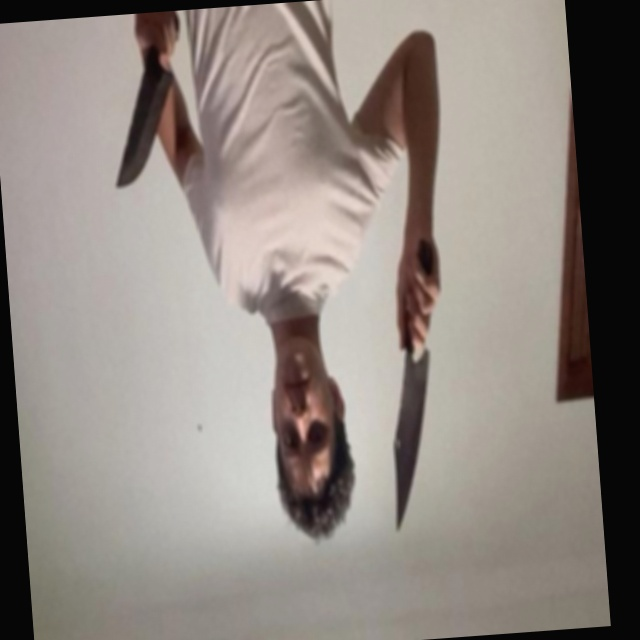Sharp-Object: (382, 351, 441, 533), (107, 72, 182, 191)
